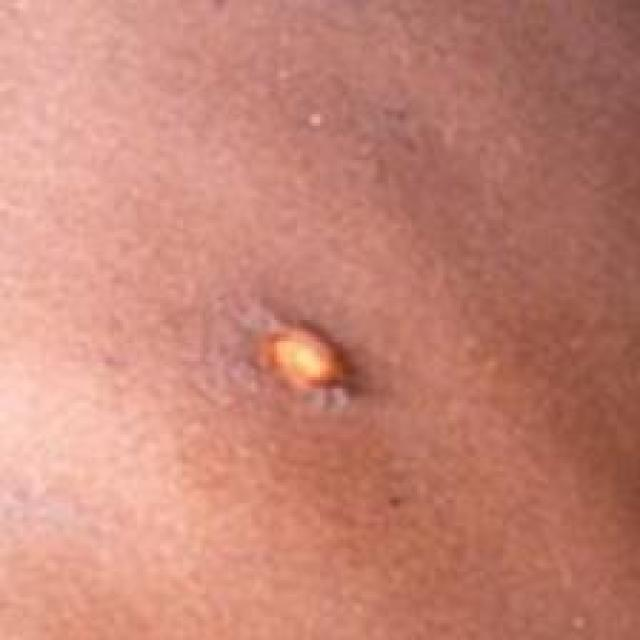monkeypox: (175, 167, 487, 630)
